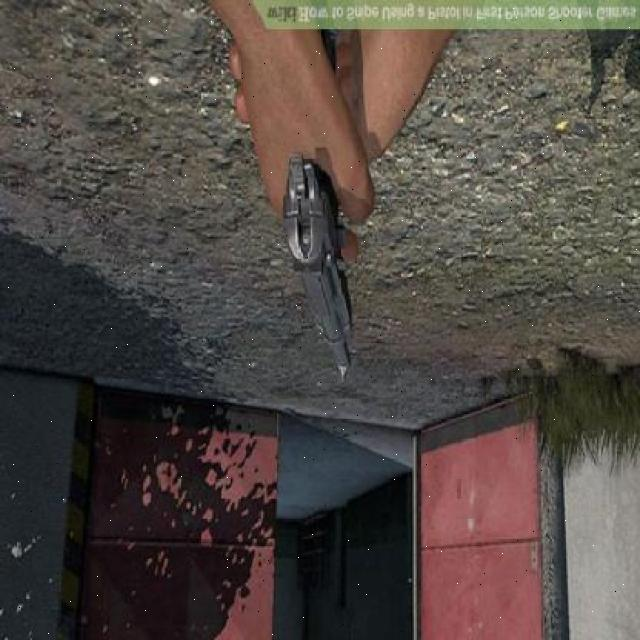gun: (258, 125, 403, 400)
